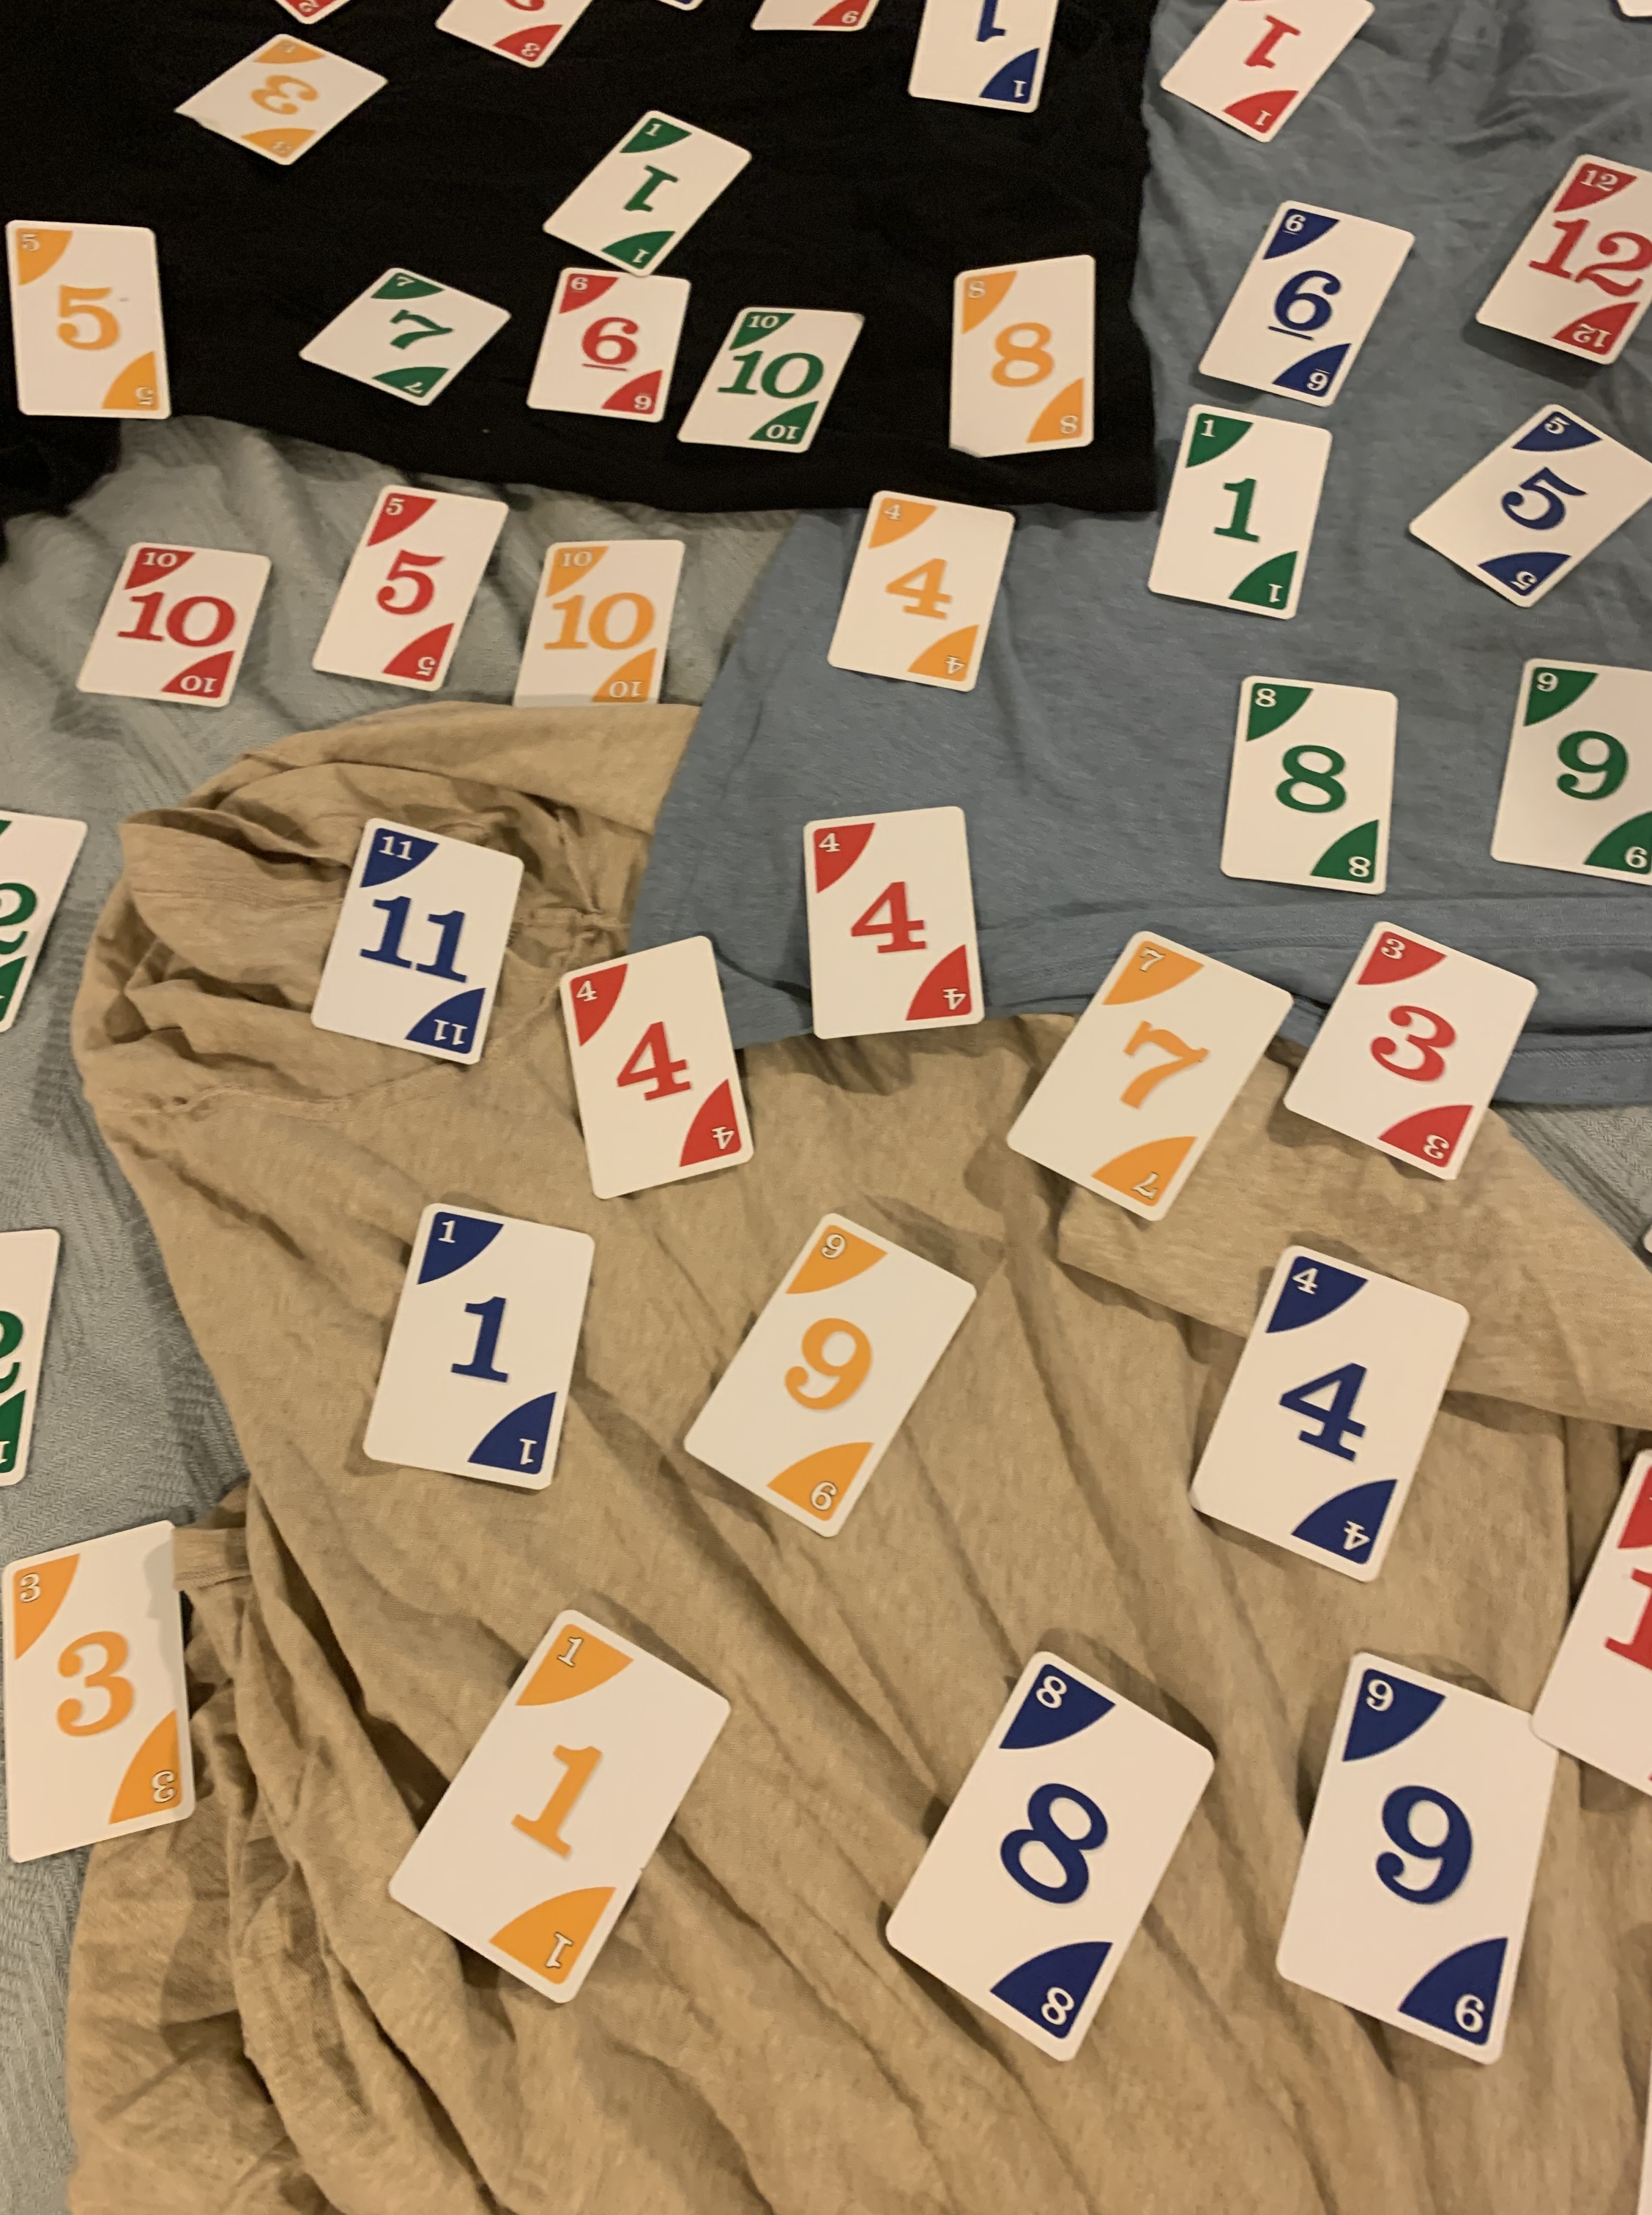eight: (862, 1644, 1230, 2078), (1201, 658, 1406, 892), (942, 236, 1119, 472)
eleven: (292, 805, 545, 1087)
five: (1404, 392, 1652, 611), (304, 481, 508, 705)
four: (1178, 1245, 1468, 1580), (543, 920, 755, 1210), (800, 481, 1038, 708), (793, 788, 994, 1055)
nine: (1262, 1642, 1567, 2074), (694, 1201, 982, 1555), (1468, 647, 1652, 889)
one: (370, 1606, 743, 2001), (352, 1189, 599, 1508), (1142, 401, 1327, 623), (531, 108, 762, 281)
seven: (989, 920, 1293, 1231)
six: (1175, 191, 1426, 408)
ten: (647, 279, 875, 470), (496, 529, 685, 717), (68, 540, 260, 712)
three: (1262, 917, 1555, 1203), (0, 1507, 210, 1890)
